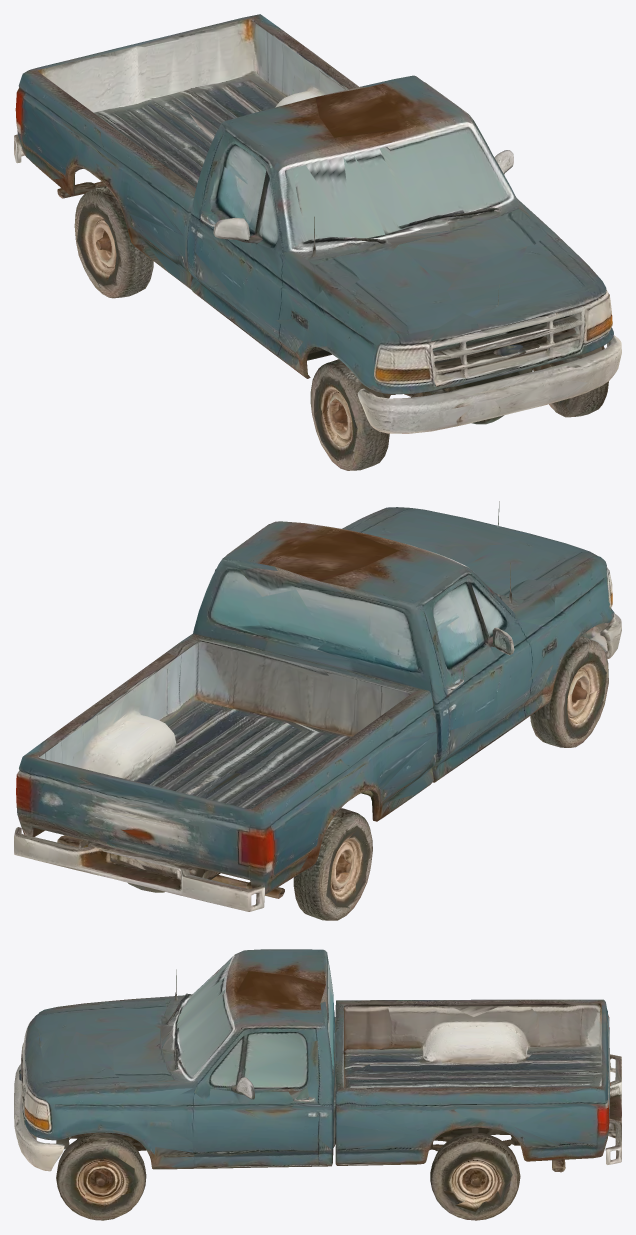
The model's file is VEH_M_BlueRustPickup.glb.
3 views of the same model, one above another, from view 1: azimuth 30°, elevation 25°; view 2: azimuth 150°, elevation 25°; view 3: azimuth 270°, elevation 25° (orthographic). The views are drawn at different scales.
Parts seen in each view (by area): view 1: VEH_M_BlueRustPickup; view 2: VEH_M_BlueRustPickup; view 3: VEH_M_BlueRustPickup.
Part boxes in pixels (x1,y1,x2,y2): VEH_M_BlueRustPickup: (14,14,621,470); VEH_M_BlueRustPickup: (14,501,621,920); VEH_M_BlueRustPickup: (14,949,621,1220).
Bounding box in the file's own units: 2.39 × 1.84 × 5.3.
Materials: 1 (1 with a texture image).
